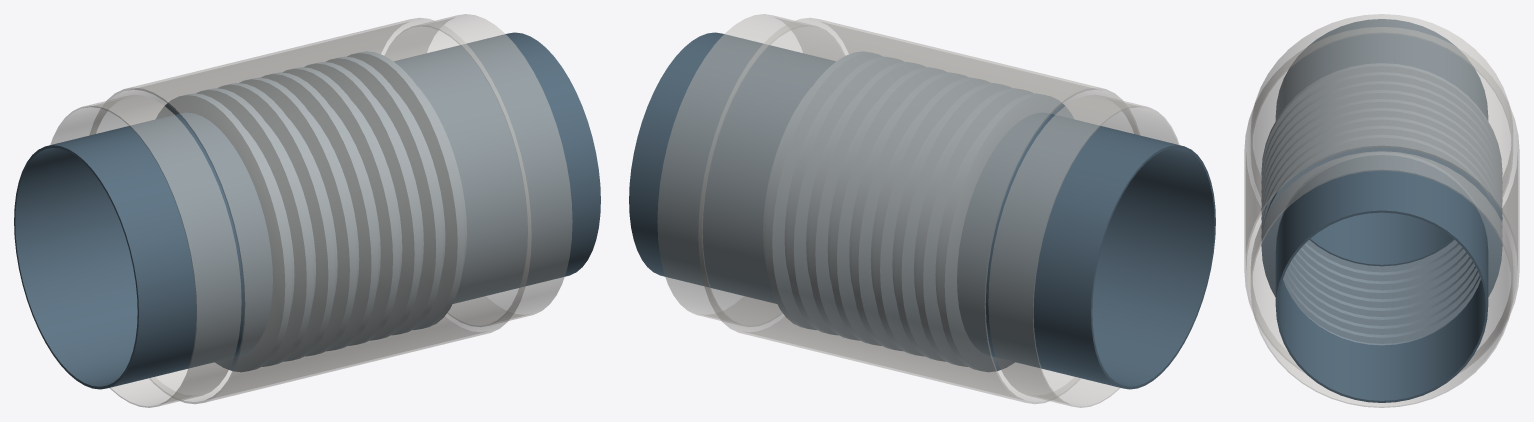
Rendered from ppu-dn800-L1750-D820-k-o1063.glb.
3 views of the same model, side by side, from view 1: azimuth 30°, elevation 25°; view 2: azimuth 150°, elevation 25°; view 3: azimuth 270°, elevation 25° (orthographic). The views are drawn at different scales.
Parts seen in each view (by area): view 1: uslovno_kozhuh_ppu, prokladka_silfon_1, patrubok_1, patrubok_2, uslovno_obolochka_l, uslovno_obolochka_r; view 2: uslovno_kozhuh_ppu, prokladka_silfon_1, patrubok_1, patrubok_2, uslovno_obolochka_l, uslovno_obolochka_r; view 3: prokladka_silfon_1, uslovno_kozhuh_ppu, patrubok_2, patrubok_1, uslovno_obolochka_r, uslovno_obolochka_l.
Boxes of the visible parts, x1,y1,x2,y2 form: uslovno_kozhuh_ppu: (90, 17, 531, 404); prokladka_silfon_1: (156, 51, 466, 372); patrubok_1: (14, 112, 272, 389); patrubok_2: (394, 32, 600, 303); uslovno_obolochka_l: (50, 94, 241, 407); uslovno_obolochka_r: (385, 14, 572, 326); uslovno_kozhuh_ppu: (698, 17, 1139, 404); prokladka_silfon_1: (763, 51, 1073, 372); patrubok_1: (957, 112, 1215, 389); patrubok_2: (629, 32, 835, 303); uslovno_obolochka_l: (988, 94, 1179, 407); uslovno_obolochka_r: (657, 14, 844, 326); prokladka_silfon_1: (1261, 63, 1502, 345); uslovno_kozhuh_ppu: (1244, 27, 1519, 372); patrubok_2: (1275, 155, 1488, 402); patrubok_1: (1275, 19, 1488, 266); uslovno_obolochka_r: (1250, 151, 1513, 407); uslovno_obolochka_l: (1251, 14, 1512, 197).
Size of the model in its own units: 1750 by 1063 by 1063.
